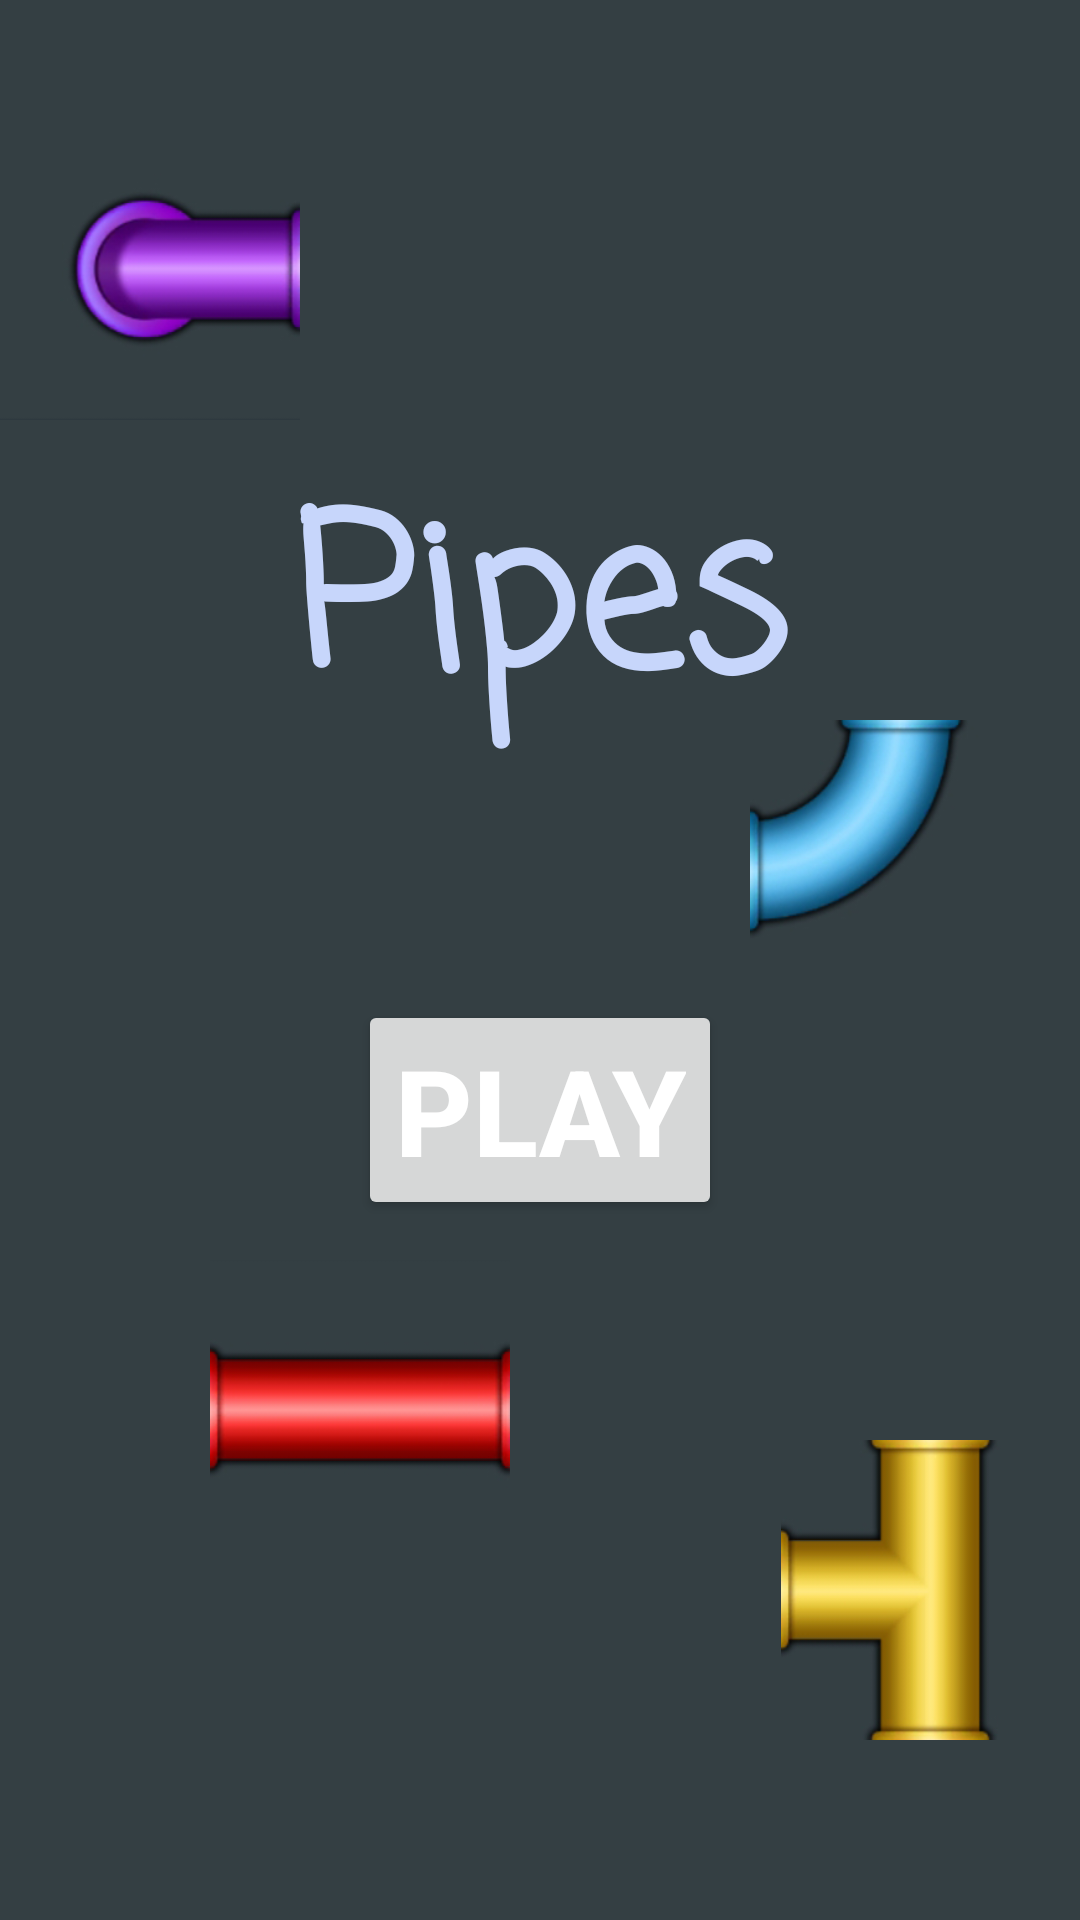

Named icons in this screenshot (1080x1920) and their centers, point (x, y):
troynaya truba: point (887, 1590)
truba povorot: point (856, 826)
truba pryamaya: point (360, 1409)
